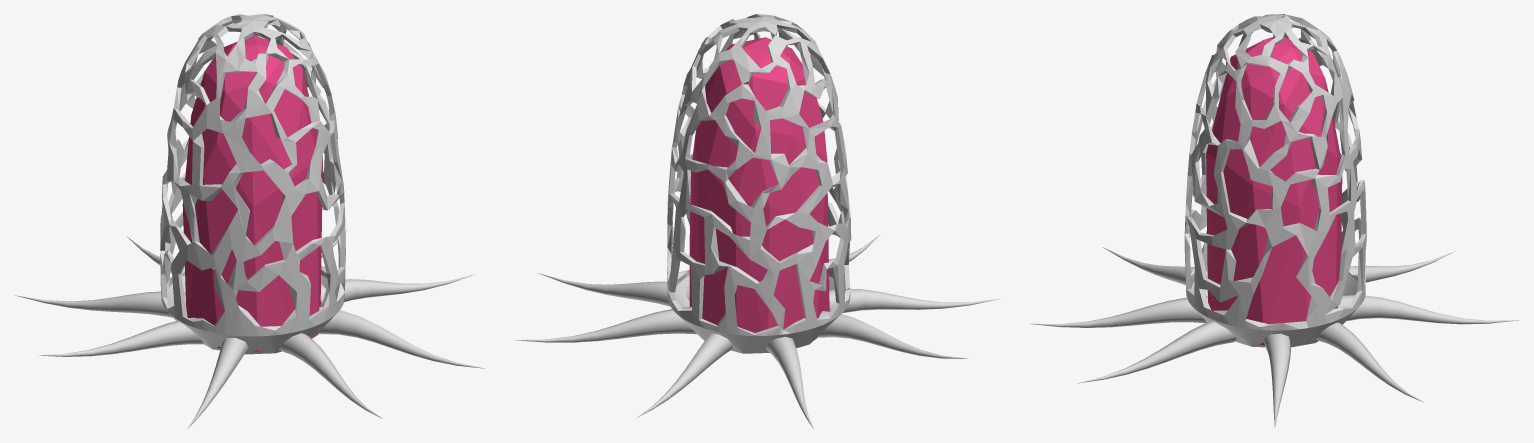
The model's file is Poulpe Grand.fbx.
3 renders of one model, left to right at view 1: azimuth 30°, elevation 25°; view 2: azimuth 150°, elevation 25°; view 3: azimuth 270°, elevation 25°, orthographic. The views are drawn at different scales.
Visible parts, largest first — view 1: Sphère.001, CourbeBézier.007, CourbeBézier.003, CourbeBézier.005, CourbeBézier.002, CourbeBézier.001, CourbeBézier.006; view 2: Sphère.001, CourbeBézier.004, CourbeBézier.003, CourbeBézier.006, CourbeBézier, CourbeBézier.001, CourbeBézier.005; view 3: Sphère.001, CourbeBézier.007, CourbeBézier.002, CourbeBézier, CourbeBézier.004, CourbeBézier.001, CourbeBézier.005, CourbeBézier.006.
Boxes of the visible parts, x1=… form: Sphère.001: x1=160, y1=14, x2=345, y2=354; CourbeBézier.007: x1=318, y1=307, x2=485, y2=368; CourbeBézier.003: x1=37, y1=317, x2=204, y2=356; CourbeBézier.005: x1=14, y1=291, x2=186, y2=317; CourbeBézier.002: x1=279, y1=333, x2=382, y2=418; CourbeBézier.001: x1=320, y1=274, x2=476, y2=303; CourbeBézier.006: x1=187, y1=338, x2=248, y2=428; Sphère.001: x1=666, y1=14, x2=851, y2=353; CourbeBézier.004: x1=514, y1=307, x2=696, y2=342; CourbeBézier.003: x1=817, y1=311, x2=967, y2=358; CourbeBézier.006: x1=829, y1=289, x2=1000, y2=313; CourbeBézier: x1=637, y1=333, x2=732, y2=417; CourbeBézier.001: x1=538, y1=273, x2=689, y2=306; CourbeBézier.005: x1=766, y1=336, x2=813, y2=428; Sphère.001: x1=1184, y1=14, x2=1366, y2=347; CourbeBézier.007: x1=1077, y1=321, x2=1236, y2=383; CourbeBézier.002: x1=1029, y1=296, x2=1207, y2=327; CourbeBézier: x1=1338, y1=295, x2=1519, y2=324; CourbeBézier.004: x1=1316, y1=322, x2=1423, y2=402; CourbeBézier.001: x1=1264, y1=333, x2=1290, y2=428; CourbeBézier.005: x1=1350, y1=251, x2=1455, y2=282; CourbeBézier.006: x1=1102, y1=247, x2=1194, y2=285.
Size of the model in its own units: 536 by 366 by 533.
